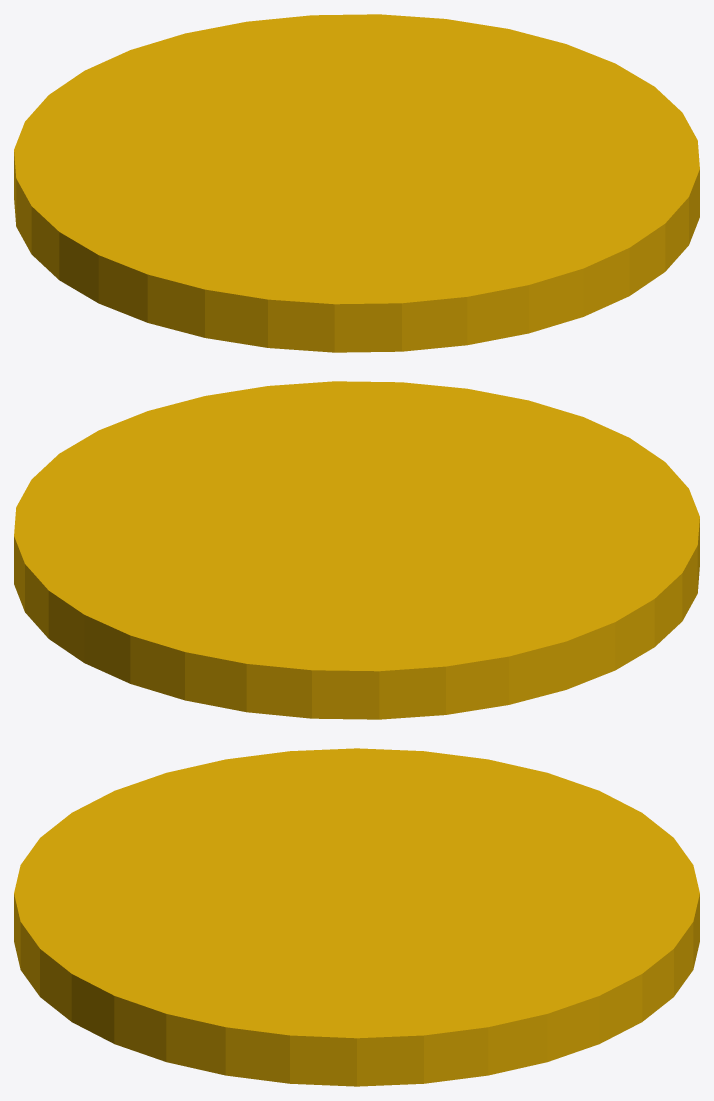
Rendered from coin game.fbx.
3 renders of one model, top to bottom at view 1: azimuth 30°, elevation 25°; view 2: azimuth 150°, elevation 25°; view 3: azimuth 270°, elevation 25°, orthographic.
Parts seen in each view (by area): view 1: Circle; view 2: Circle; view 3: Circle.
Part boxes in pixels (bbox=[...]): Circle: bbox=[14, 14, 699, 352]; Circle: bbox=[14, 381, 699, 719]; Circle: bbox=[14, 748, 699, 1086].
Bounding box in the file's own units: 200 × 15.54 × 200.
